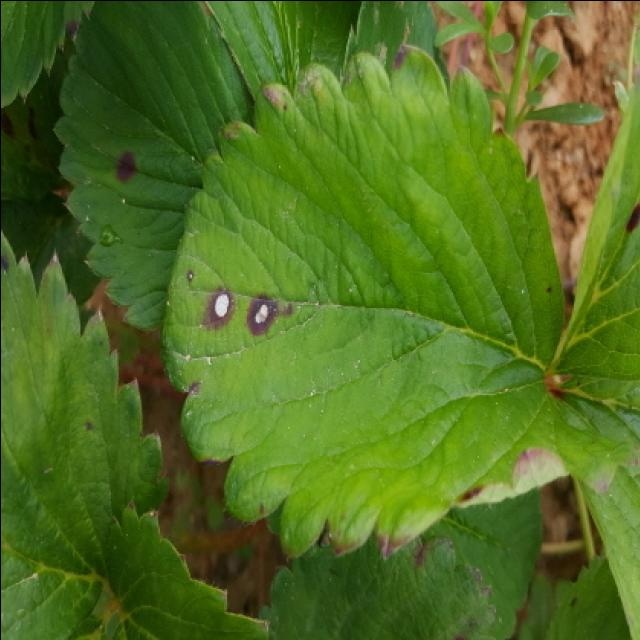Leaf Spot: (159, 42, 564, 564), (2, 234, 172, 640), (51, 2, 252, 331), (548, 15, 640, 410), (265, 524, 501, 640), (451, 394, 638, 505), (516, 552, 634, 640), (2, 2, 95, 107)
